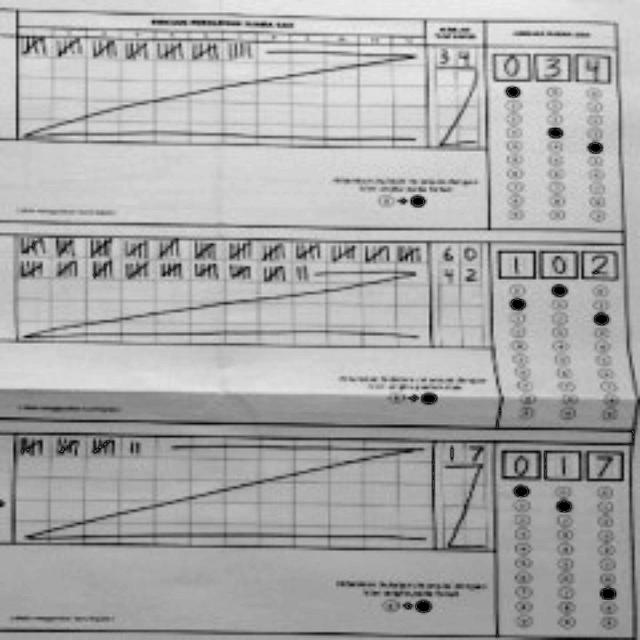Suara: (499, 446, 626, 478), (490, 51, 612, 84), (495, 247, 619, 279)
